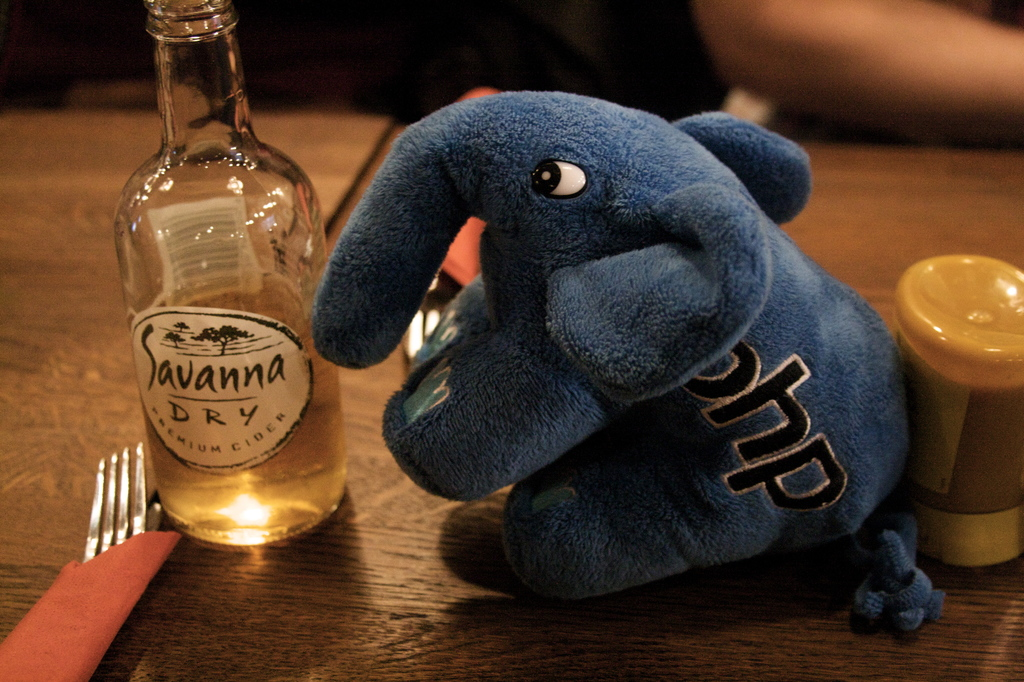Animal: (305, 88, 948, 635)
